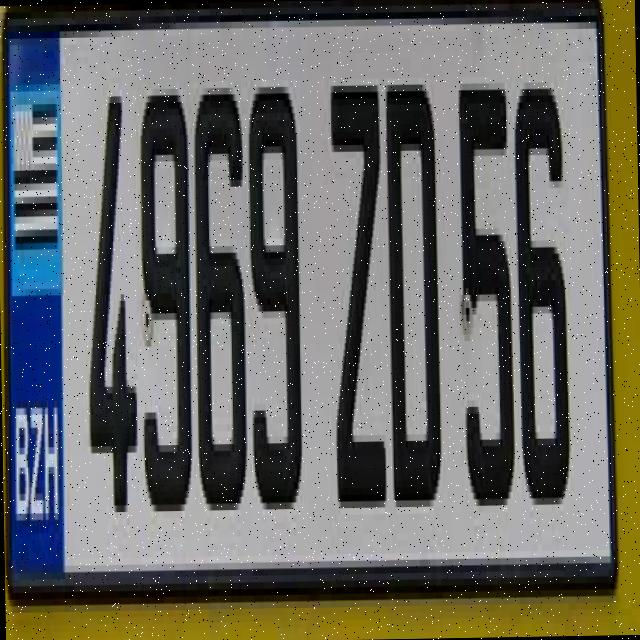Autre: (1, 9, 620, 608)
